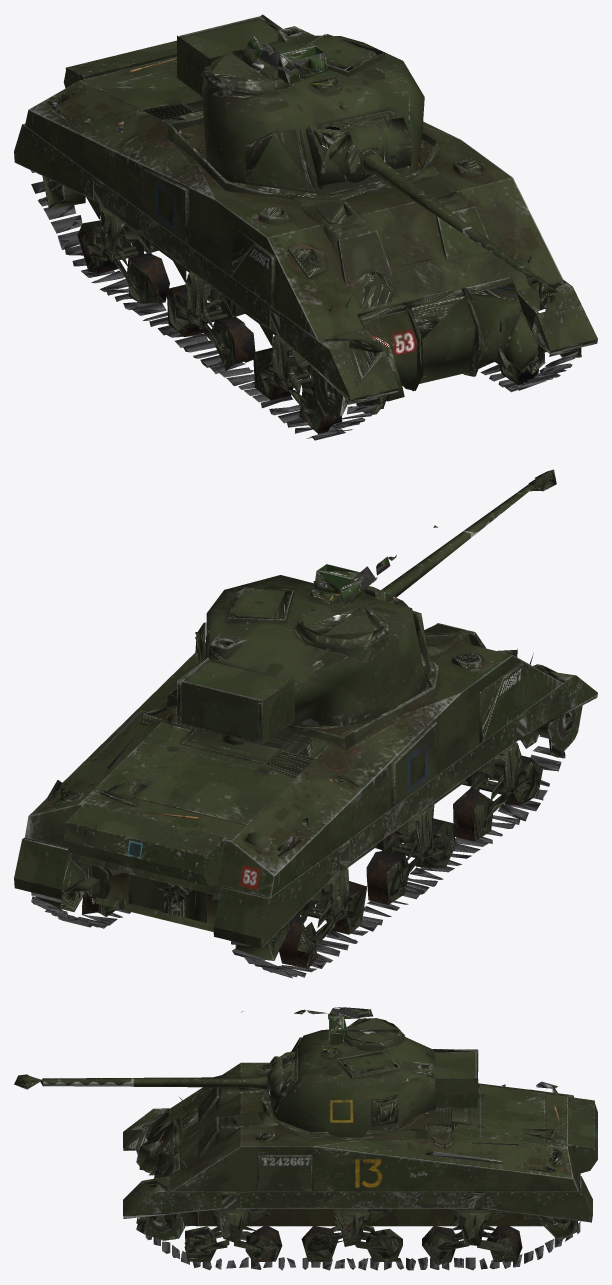
The model's file is sherman_vc_firefly_mobil.glb.
The picture shows the model from 3 angles, top to bottom: view 1: azimuth 30°, elevation 25°; view 2: azimuth 150°, elevation 25°; view 3: azimuth 270°, elevation 25°; orthographic projection. The views are drawn at different scales.
Visible parts, largest first — view 1: Object_14, Object_4, Object_125, Object_127, Object_110, Object_307, Object_22, Object_305; view 2: Object_14, Object_125, Object_4, Object_127, Object_110, Object_22, Object_307, Object_305; view 3: Object_14, Object_125, Object_4, Object_110, Object_127, Object_307, Object_22, Object_305.
Part boxes in pixels (box(x1,y1,x2,y2)): Object_14: box(25, 57, 563, 340); Object_4: box(42, 68, 581, 418); Object_125: box(177, 14, 558, 298); Object_127: box(14, 124, 597, 403); Object_110: box(77, 196, 538, 433); Object_307: box(31, 170, 579, 440); Object_22: box(45, 40, 502, 331); Object_305: box(245, 35, 344, 109); Object_14: box(25, 641, 563, 931); Object_125: box(177, 469, 556, 745); Object_4: box(26, 623, 582, 960); Object_127: box(14, 664, 597, 948); Object_110: box(82, 742, 542, 968); Object_22: box(46, 710, 346, 886); Object_307: box(31, 735, 565, 978); Object_305: box(314, 525, 437, 604); Object_14: box(170, 1062, 580, 1226); Object_125: box(14, 1018, 478, 1138); Object_4: box(136, 1063, 577, 1241); Object_110: box(184, 1208, 522, 1264); Object_127: box(123, 1108, 592, 1222); Object_307: box(136, 1124, 580, 1270); Object_22: box(180, 1081, 597, 1173); Object_305: box(241, 1007, 372, 1045).
Size of the model in its own units: 2.7 by 3.08 by 7.78.
Materials: 8 (8 with a texture image).
